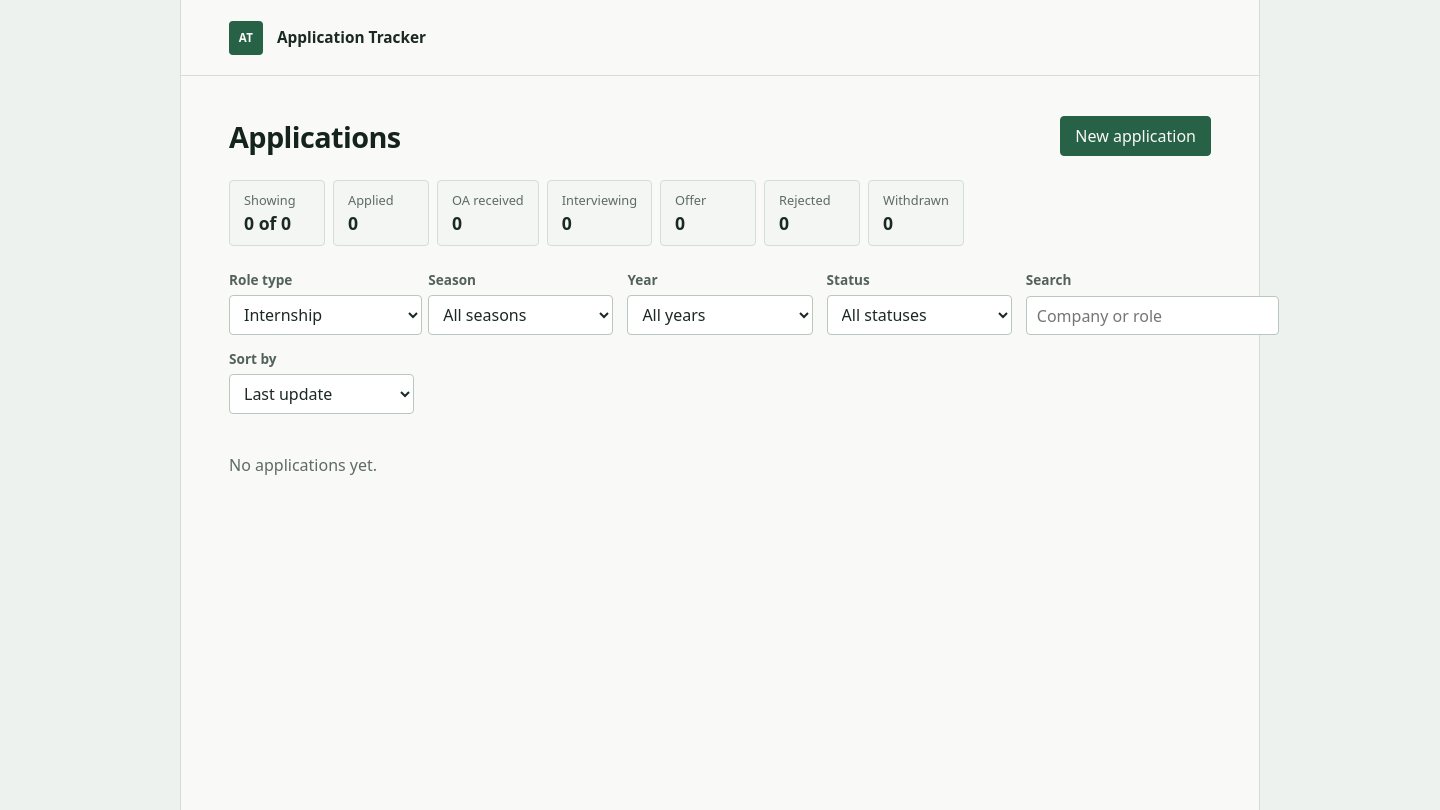
Test: creates an application and opens its detail
Click the button "New application": (1136, 136) [1060,116,1211,156]
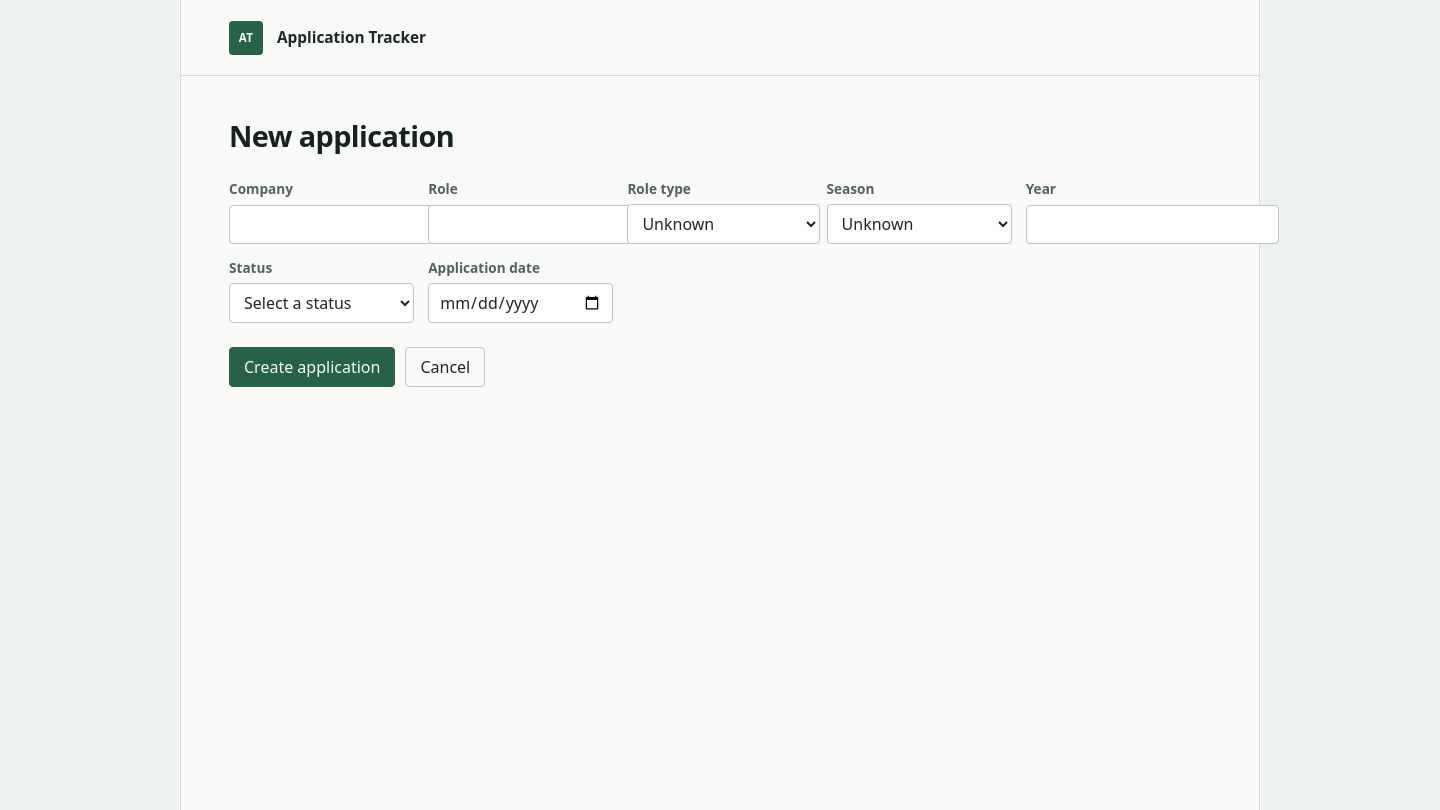
In the field labelled "Company": (356, 224) [229,205,482,244], type "Acme"
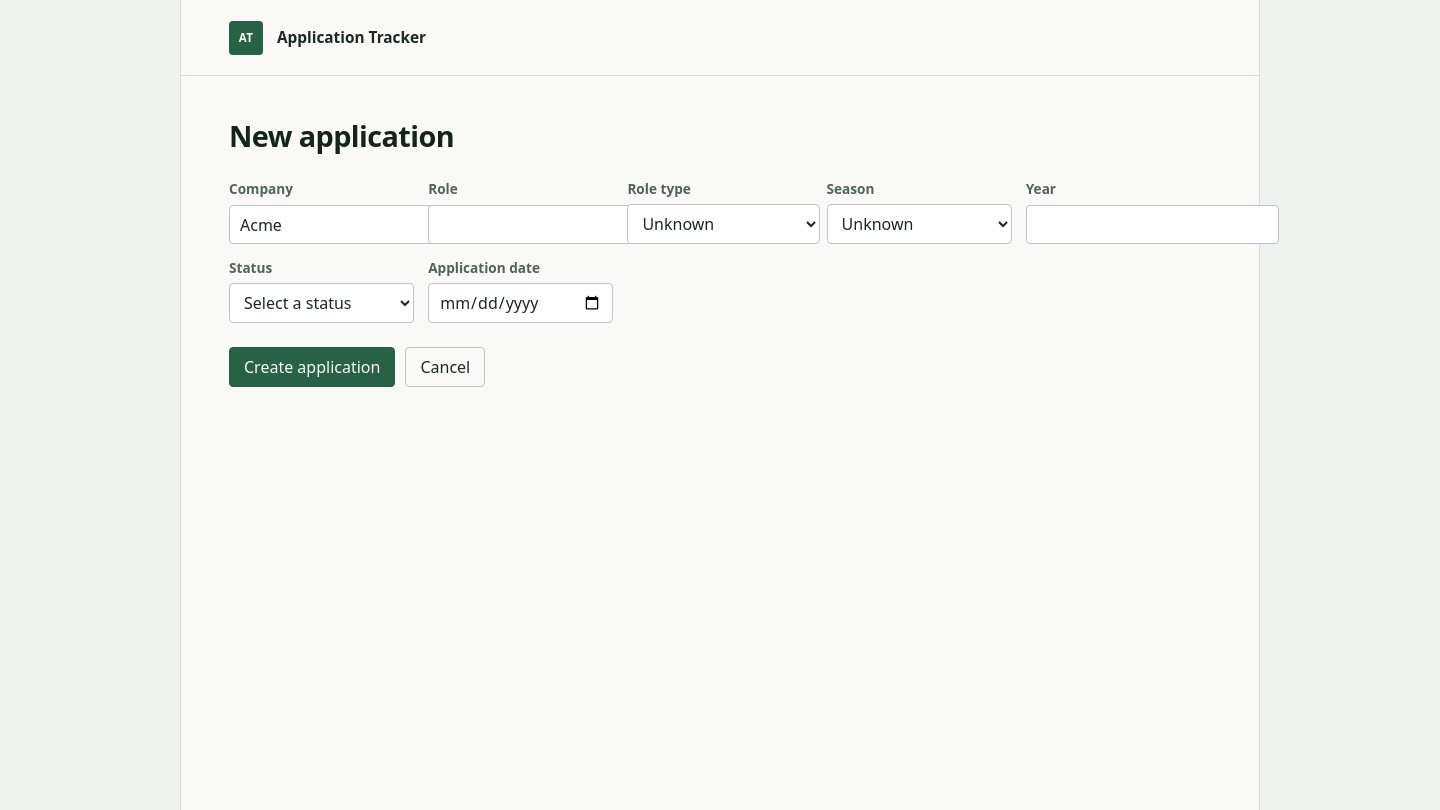
In the field labelled "Role": (555, 224) [428,205,681,244], type "Software Engineer Intern"
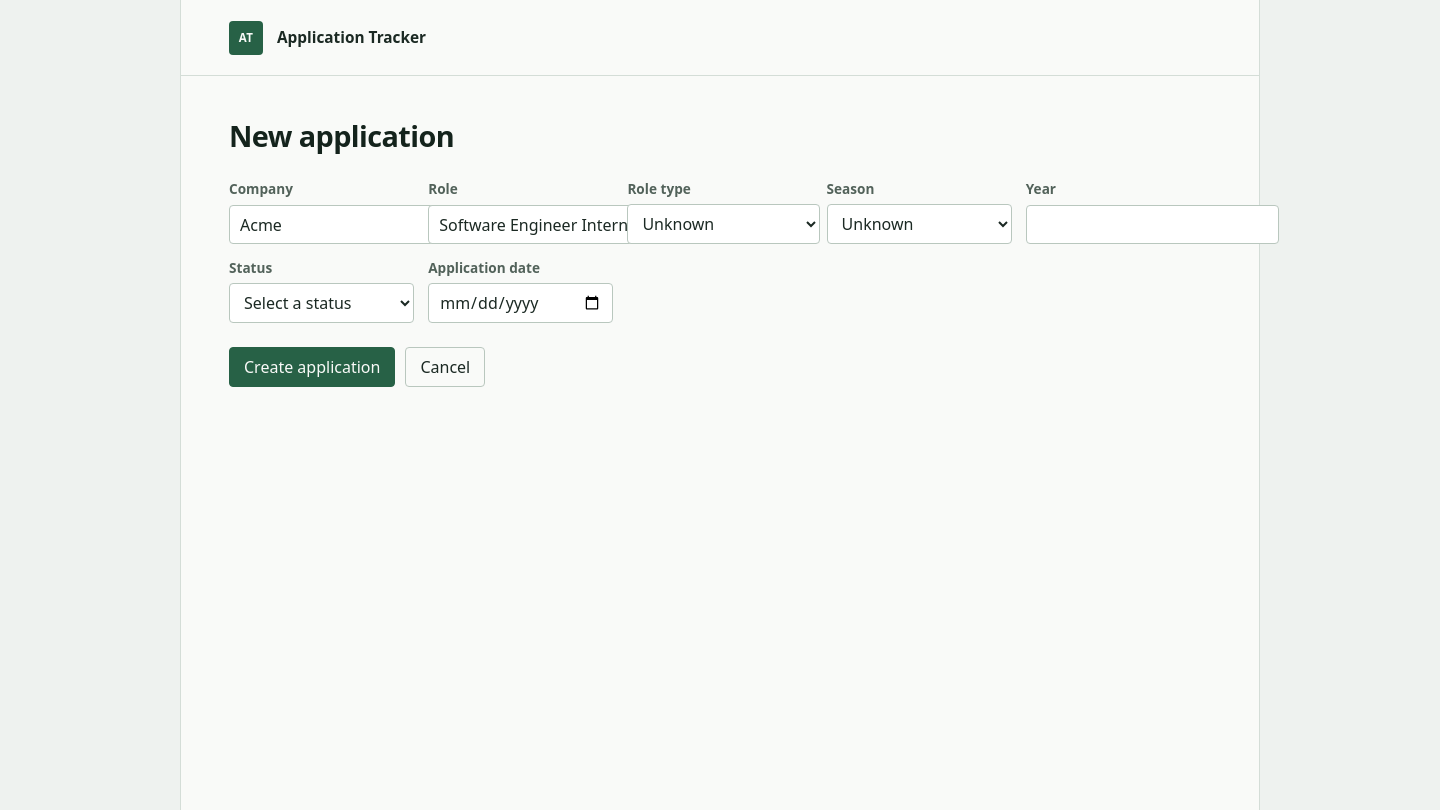
Select "Applied" in the dropdown labelled "Status": (322, 303) [229,283,414,323]
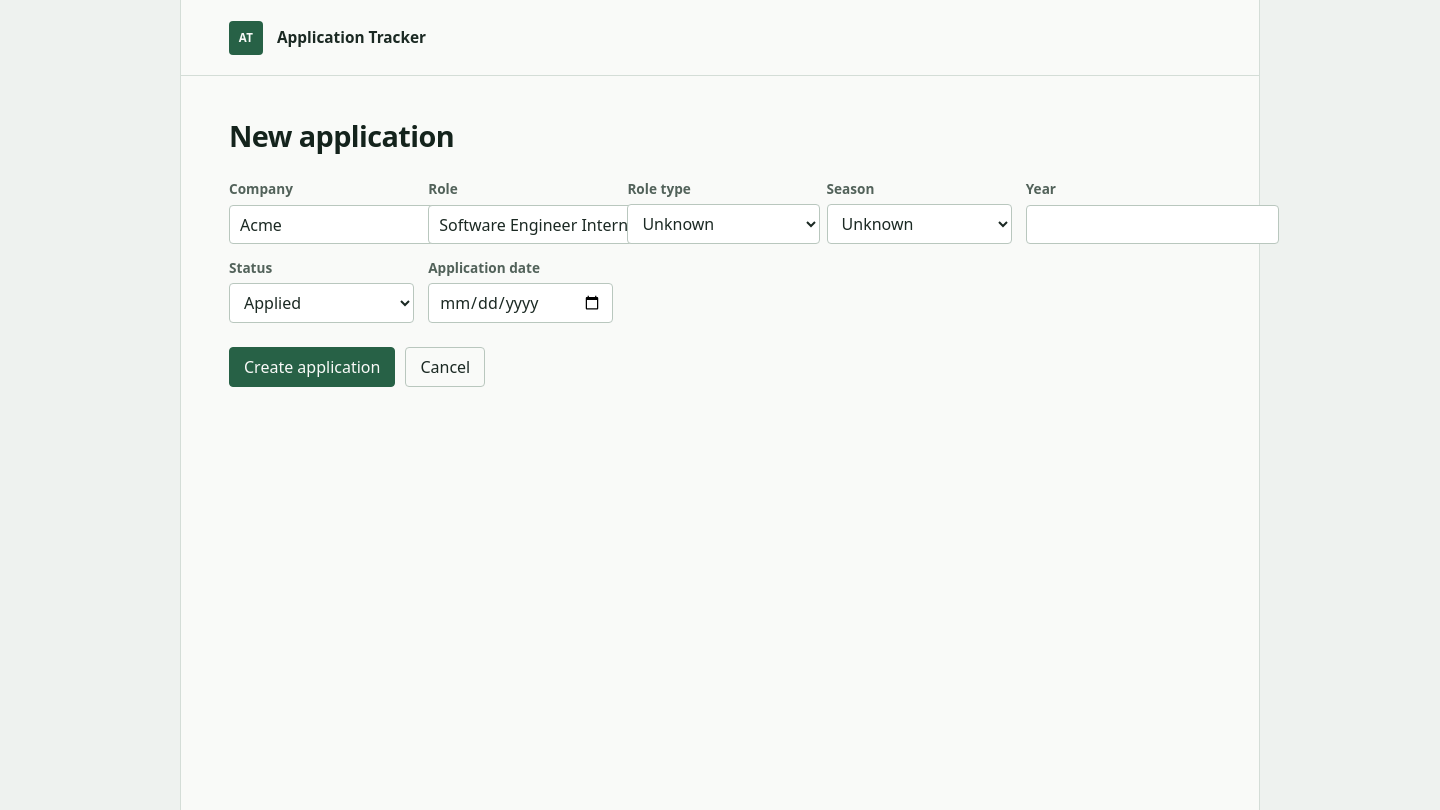
Click the button "Create application": (312, 367) [229,347,395,387]
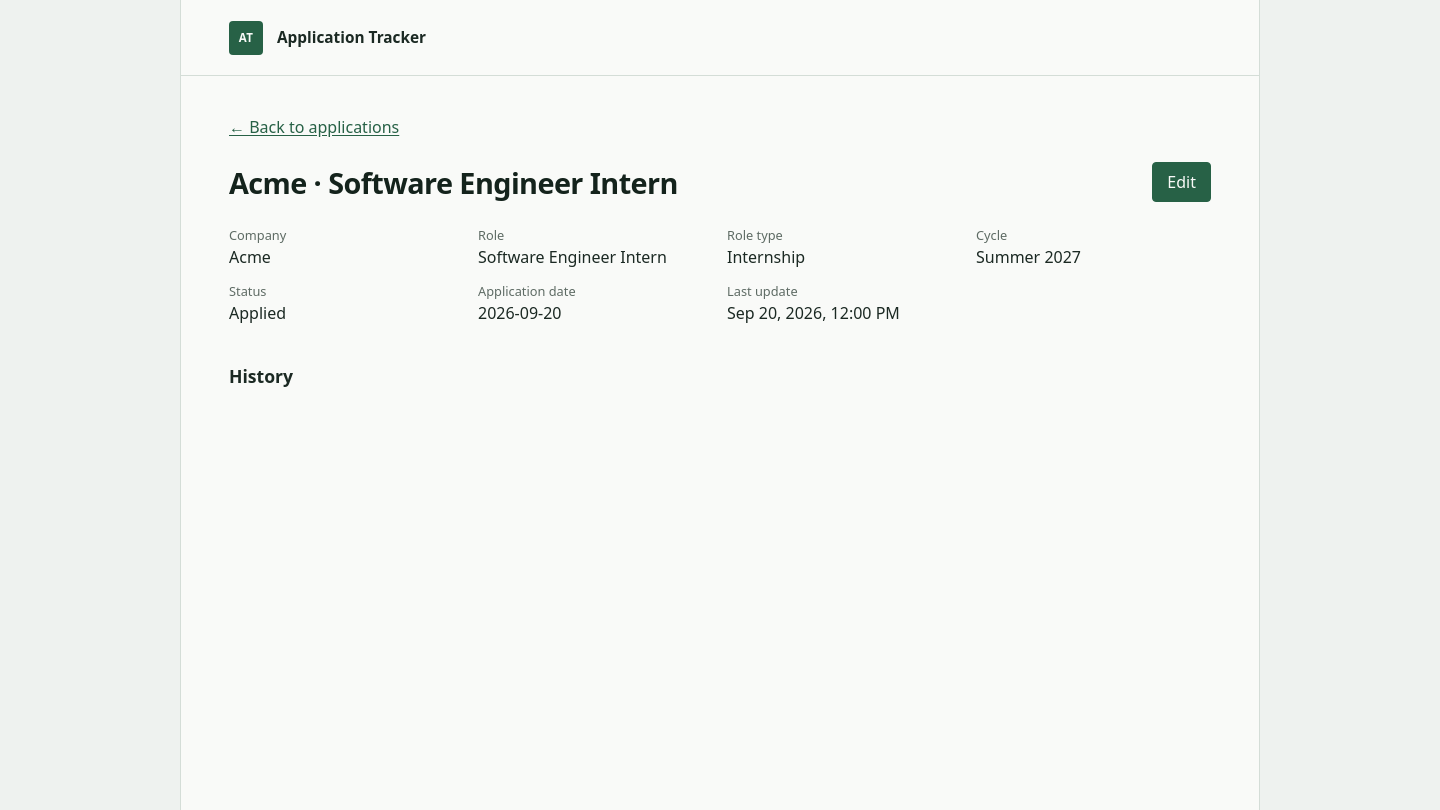
Expected: the heading "Acme · Software Engineer Intern" is shown, [229,162,678,202]
